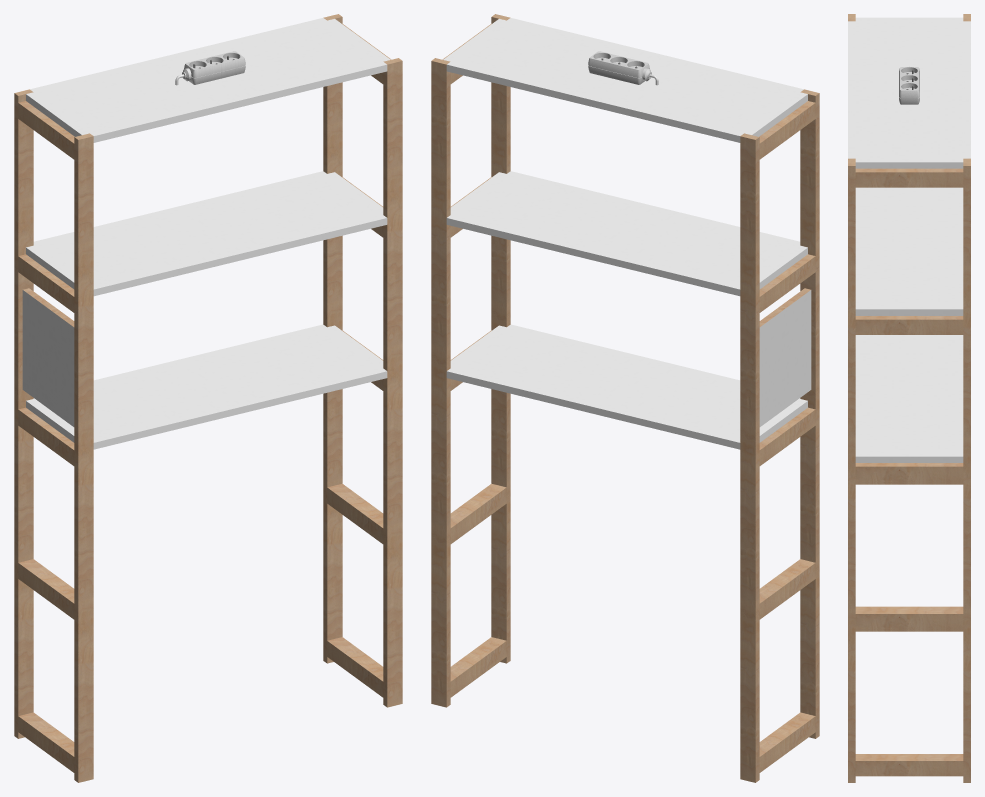
File: bloc-3-etageres-multiprise.glb
3 views of the same model, side by side, from view 1: azimuth 30°, elevation 25°; view 2: azimuth 150°, elevation 25°; view 3: azimuth 270°, elevation 25° (orthographic). The views are drawn at different scales.
Visible parts, largest first — view 1: Bloc 3 Étagères, Multiprise; view 2: Bloc 3 Étagères, Multiprise; view 3: Bloc 3 Étagères, Multiprise.
Boxes of the visible parts, x1=… form: Bloc 3 Étagères: x1=14, y1=14, x2=402, y2=782; Multiprise: x1=175, y1=51, x2=245, y2=85; Bloc 3 Étagères: x1=431, y1=14, x2=819, y2=782; Multiprise: x1=588, y1=51, x2=658, y2=85; Bloc 3 Étagères: x1=848, y1=14, x2=970, y2=782; Multiprise: x1=899, y1=66, x2=919, y2=104.
Size of the model in its own units: 950 by 1841 by 325.
Materials: 6 (5 with a texture image).
